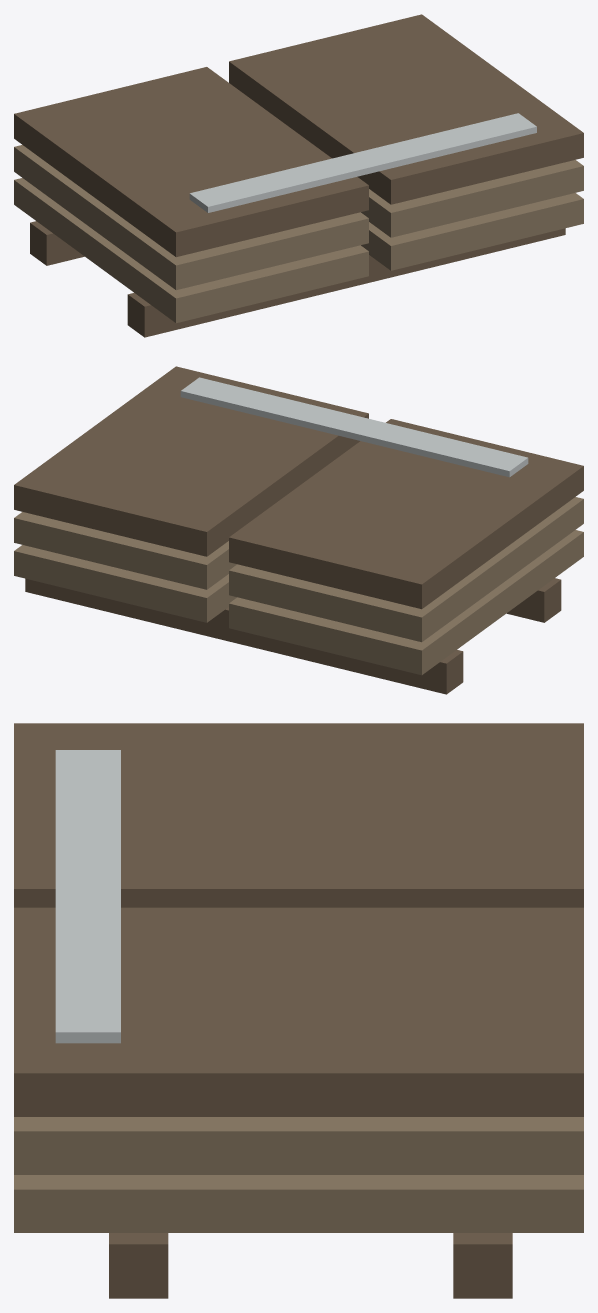
Rendered from plank_stack.glb.
3 renders of one model, top to bottom at view 1: azimuth 30°, elevation 25°; view 2: azimuth 150°, elevation 25°; view 3: azimuth 270°, elevation 25°, orthographic. The views are drawn at different scales.
Visible parts, largest first — view 1: plank_stack; view 2: plank_stack; view 3: plank_stack.
Part boxes in pixels (bbox=[...]): plank_stack: bbox=[14, 14, 583, 337]; plank_stack: bbox=[14, 366, 583, 694]; plank_stack: bbox=[14, 723, 583, 1298].
Bounding box in the file's own units: 2.88 × 0.85 × 1.92.
